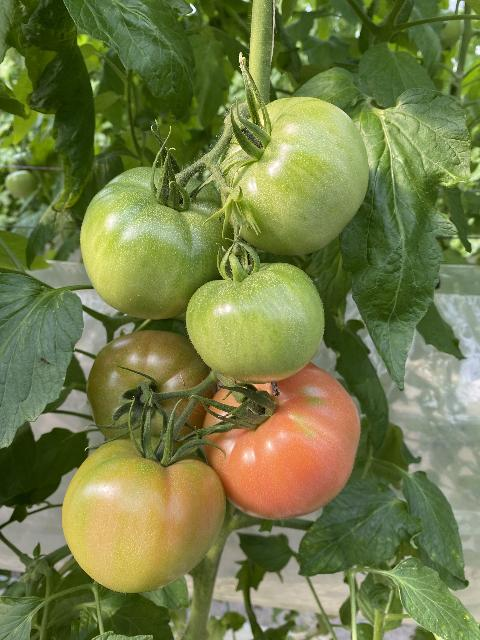b_green: (80, 166, 244, 320), (218, 96, 370, 255), (186, 263, 324, 383)
b_half_ripened: (62, 438, 228, 593), (199, 363, 361, 521), (87, 330, 219, 452)
